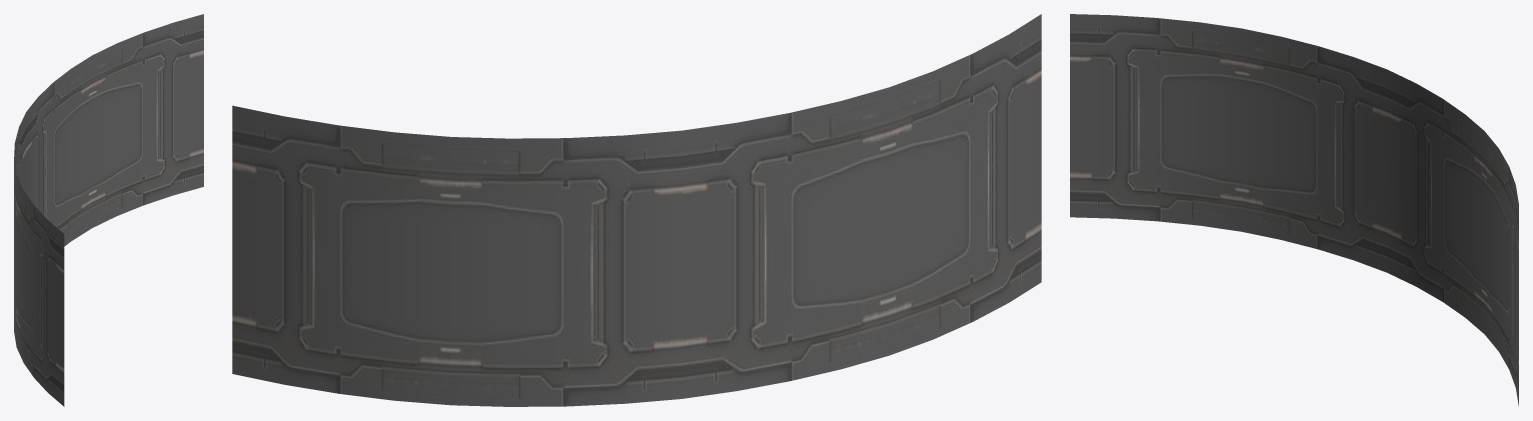
Rendered from sf_low_wall_metal_corner.glb.
The picture shows the model from 3 angles, left to right: view 1: azimuth 30°, elevation 25°; view 2: azimuth 150°, elevation 25°; view 3: azimuth 270°, elevation 25°; orthographic projection. The views are drawn at different scales.
Visible parts, largest first — view 1: ShortWall_Metal2_Corner_Outer; view 2: ShortWall_Metal2_Corner_Outer; view 3: ShortWall_Metal2_Corner_Outer.
Part boxes in pixels (bbox=[...]): ShortWall_Metal2_Corner_Outer: bbox=[14, 14, 203, 406]; ShortWall_Metal2_Corner_Outer: bbox=[232, 14, 1041, 406]; ShortWall_Metal2_Corner_Outer: bbox=[1070, 14, 1518, 406].
Size of the model in its own units: 4 by 2 by 4.
1 material, 1 textured.
